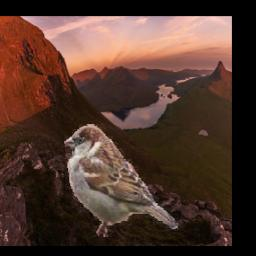Sparrow: (64, 124, 179, 237)
